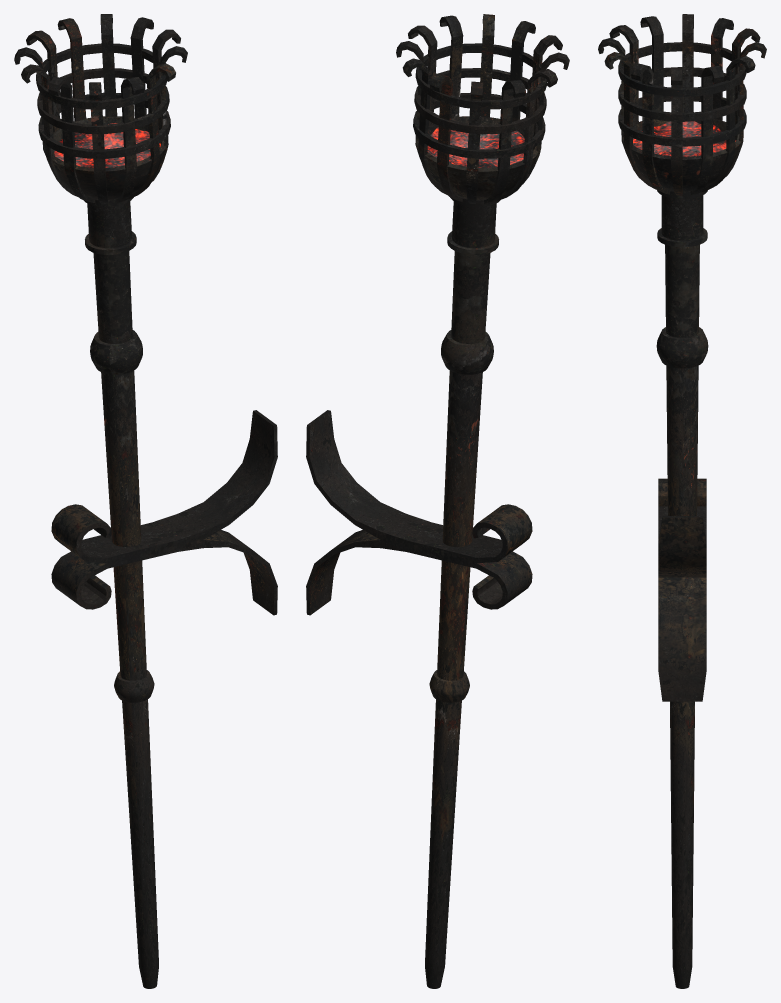
The model's file is Torch2.fbx.
3 views of the same model, side by side, from view 1: azimuth 30°, elevation 25°; view 2: azimuth 150°, elevation 25°; view 3: azimuth 270°, elevation 25° (orthographic). The views are drawn at different scales.
Visible parts, largest first — view 1: Torch3; view 2: Torch3; view 3: Torch3.
Boxes of the visible parts, x1=… form: Torch3: x1=14, y1=14, x2=277, y2=988; Torch3: x1=306, y1=14, x2=569, y2=988; Torch3: x1=598, y1=14, x2=766, y2=988.
Size of the model in its own units: 105 by 398 by 65.87.
